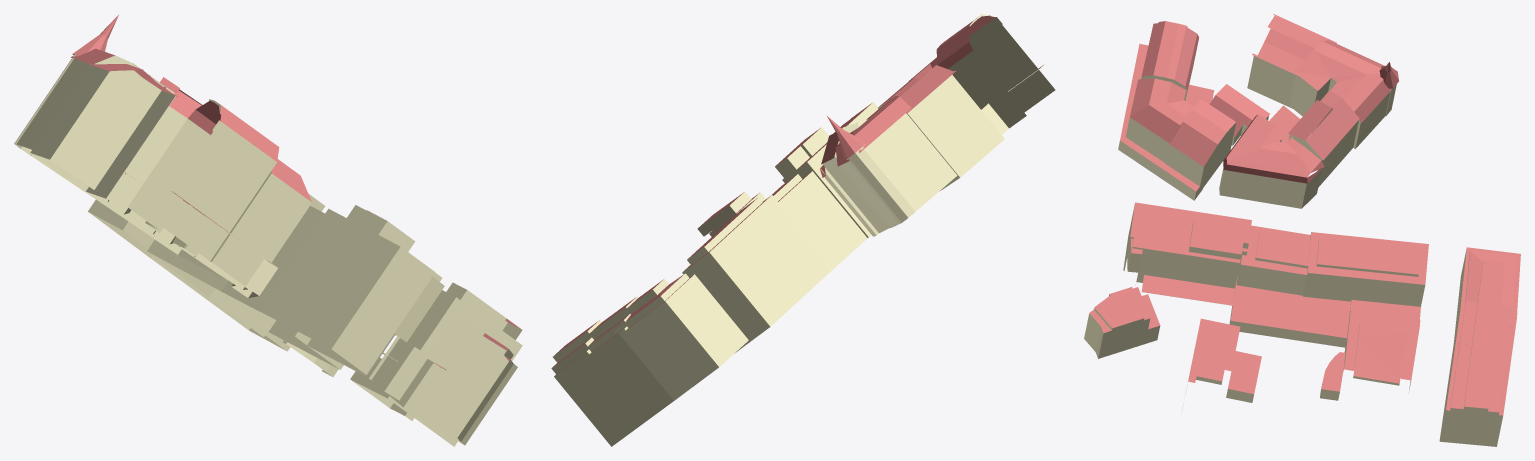
The model's file is tile_009.glb.
3 renders of one model, left to right at view 1: azimuth 30°, elevation 25°; view 2: azimuth 150°, elevation 25°; view 3: azimuth 270°, elevation 25°, orthographic. The views are drawn at different scales.
Parts seen in each view (by area): view 1: Batched_Building_ID_A5DCBD0E-AFFF-4780-B579-986EDA938D03, Batched_Building_ID_7DA02FC8-865D-4C25-A15C-148E799F88E3; view 2: Batched_Building_ID_A5DCBD0E-AFFF-4780-B579-986EDA938D03, Batched_Building_ID_7DA02FC8-865D-4C25-A15C-148E799F88E3; view 3: Batched_Building_ID_7DA02FC8-865D-4C25-A15C-148E799F88E3, Batched_Building_ID_A5DCBD0E-AFFF-4780-B579-986EDA938D03.
Boxes of the visible parts, <box> form: Batched_Building_ID_A5DCBD0E-AFFF-4780-B579-986EDA938D03: <box>14,54,522,446</box>; Batched_Building_ID_7DA02FC8-865D-4C25-A15C-148E799F88E3: <box>71,15,521,369</box>; Batched_Building_ID_A5DCBD0E-AFFF-4780-B579-986EDA938D03: <box>551,14,1055,446</box>; Batched_Building_ID_7DA02FC8-865D-4C25-A15C-148E799F88E3: <box>552,15,1043,375</box>; Batched_Building_ID_7DA02FC8-865D-4C25-A15C-148E799F88E3: <box>1089,14,1520,415</box>; Batched_Building_ID_A5DCBD0E-AFFF-4780-B579-986EDA938D03: <box>1084,45,1510,446</box>.
Size of the model in its own units: 116 by 116 by 137.
